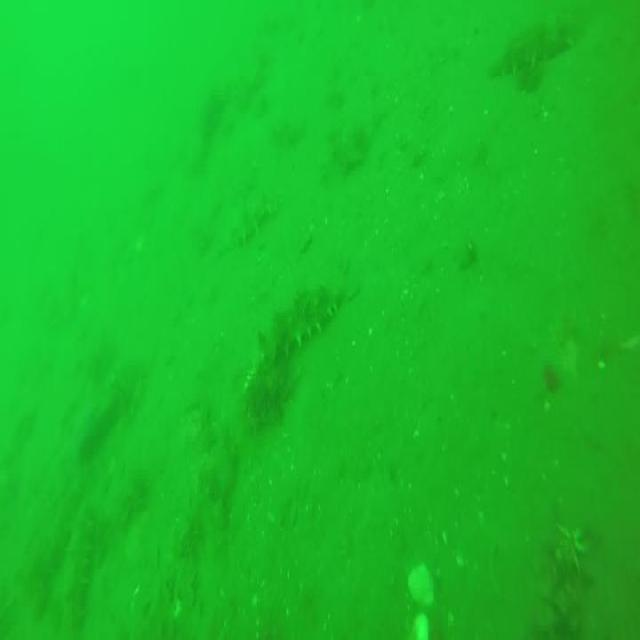holothurian: (54, 354, 148, 468), (239, 280, 346, 365), (478, 17, 582, 74), (58, 499, 98, 640), (222, 188, 302, 251)
scallop: (408, 568, 434, 600), (411, 614, 429, 640)
